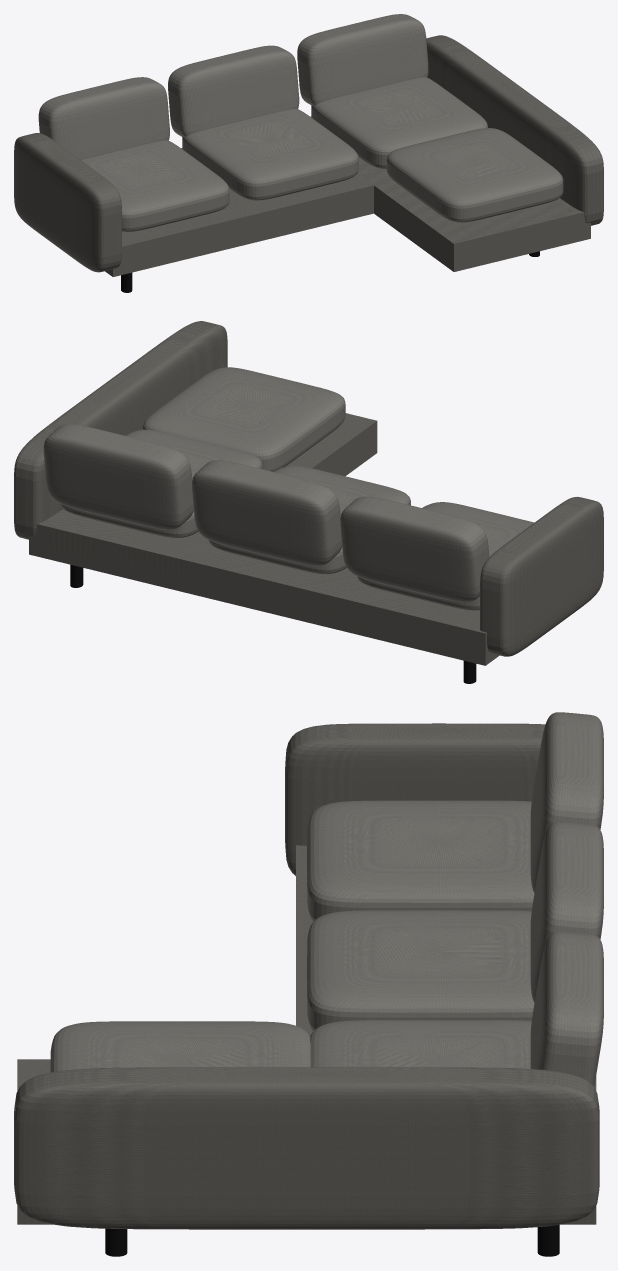
File: sofa-corner.glb
3 views of the same model, one above another, from view 1: azimuth 30°, elevation 25°; view 2: azimuth 150°, elevation 25°; view 3: azimuth 270°, elevation 25° (orthographic). The views are drawn at different scales.
Visible parts, largest first — view 1: chaise_seat, arm_right_chaise, seat_2, base_main, arm_left, base_chaise, seat_3, back_3, back_2, seat_1, back_1; view 2: base_main, arm_left, chaise_seat, back_2, back_3, arm_right_chaise, back_1, base_chaise, seat_3, seat_2, seat_1; view 3: arm_right_chaise, seat_1, seat_2, arm_left, chaise_seat, seat_3, back_3, back_2, back_1, base_main, base_chaise.
Boxes of the visible parts, x1=… form: chaise_seat: x1=386, y1=128, x2=563, y2=222; arm_right_chaise: x1=426, y1=35, x2=603, y2=225; seat_2: x1=182, y1=109, x2=358, y2=200; base_main: x1=105, y1=148, x2=373, y2=276; arm_left: x1=14, y1=133, x2=121, y2=272; base_chaise: x1=310, y1=116, x2=590, y2=271; seat_3: x1=311, y1=77, x2=487, y2=168; back_3: x1=297, y1=14, x2=428, y2=105; back_2: x1=168, y1=45, x2=299, y2=136; seat_1: x1=81, y1=140, x2=229, y2=231; back_1: x1=38, y1=77, x2=169, y2=159; base_main: x1=29, y1=524, x2=499, y2=665; arm_left: x1=480, y1=496, x2=603, y2=656; chaise_seat: x1=142, y1=367, x2=345, y2=471; back_2: x1=192, y1=460, x2=342, y2=566; back_3: x1=43, y1=424, x2=193, y2=529; arm_right_chaise: x1=14, y1=321, x2=227, y2=539; back_1: x1=340, y1=496, x2=489, y2=602; base_chaise: x1=29, y1=413, x2=377, y2=592; seat_3: x1=60, y1=429, x2=262, y2=537; seat_2: x1=208, y1=466, x2=410, y2=574; seat_1: x1=357, y1=502, x2=534, y2=610; arm_right_chaise: x1=14, y1=1067, x2=599, y2=1229; seat_1: x1=307, y1=800, x2=534, y2=921; seat_2: x1=307, y1=910, x2=534, y2=1031; arm_left: x1=285, y1=723, x2=545, y2=875; chaise_seat: x1=50, y1=1021, x2=310, y2=1072; seat_3: x1=310, y1=1020, x2=531, y2=1068; back_3: x1=530, y1=931, x2=603, y2=1086; back_2: x1=530, y1=822, x2=603, y2=1002; back_1: x1=530, y1=712, x2=603, y2=892; base_main: x1=296, y1=845, x2=313, y2=1035; base_chaise: x1=17, y1=1059, x2=596, y2=1224.
Size of the model in its own units: 2.8 by 0.88 by 1.9.
Materials: 3 (3 with a texture image).
